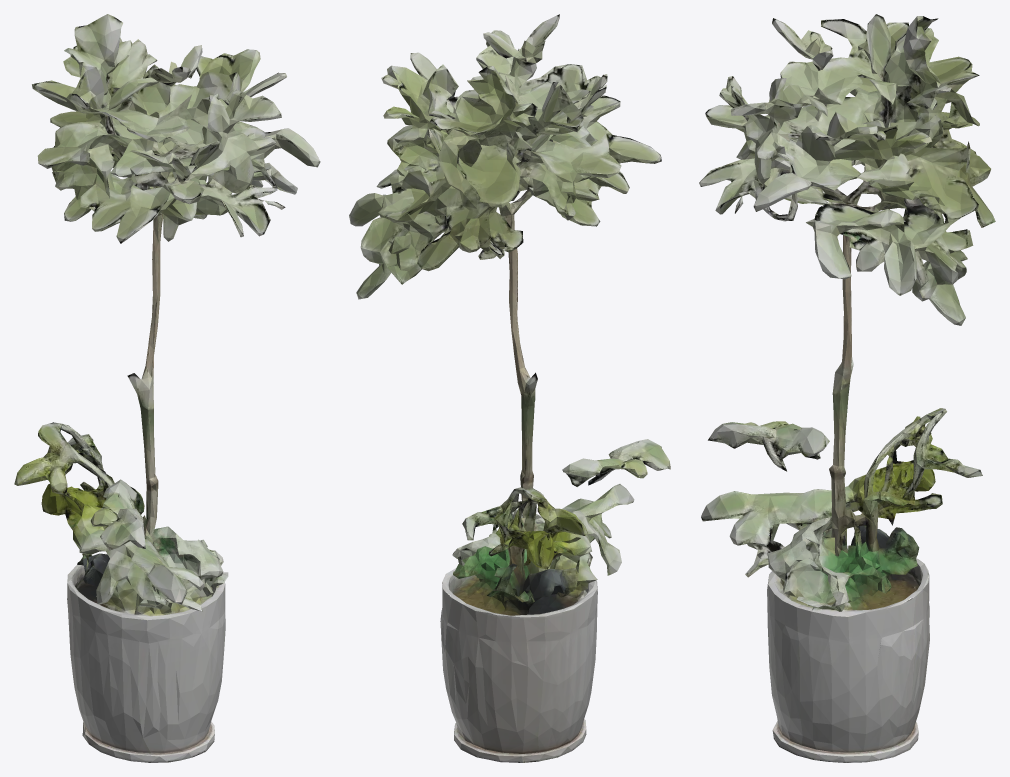
3 renders of one model, left to right at view 1: azimuth 30°, elevation 25°; view 2: azimuth 150°, elevation 25°; view 3: azimuth 270°, elevation 25°, orthographic. The views are drawn at different scales.
Parts seen in each view (by area): view 1: geometry_0; view 2: geometry_0; view 3: geometry_0.
Part boxes in pixels (<box>): geometry_0: <box>14,14,320,762</box>; geometry_0: <box>349,14,670,762</box>; geometry_0: <box>699,14,995,762</box>.
Bounding box in the file's own units: 0.3751 × 1 × 0.3757.
Materials: 1 (1 with a texture image).
